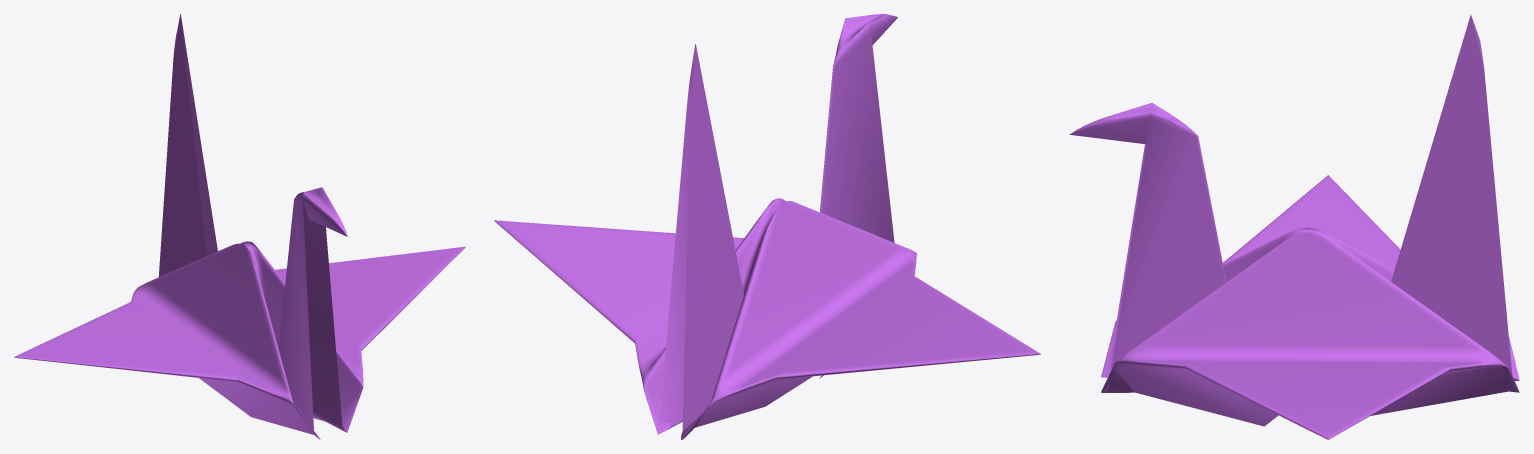
Rendered from 19. Origami Paper.glb.
3 views of the same model, side by side, from view 1: azimuth 30°, elevation 25°; view 2: azimuth 150°, elevation 25°; view 3: azimuth 270°, elevation 25° (orthographic). The views are drawn at different scales.
Visible parts, largest first — view 1: Origami; view 2: Origami; view 3: Origami.
Boxes of the visible parts, x1,y1,x2,y2 form: Origami: (14, 14, 465, 439); Origami: (494, 14, 1040, 439); Origami: (1069, 14, 1519, 439).
Size of the model in its own units: 0.2279 by 0.162 by 0.1641.
